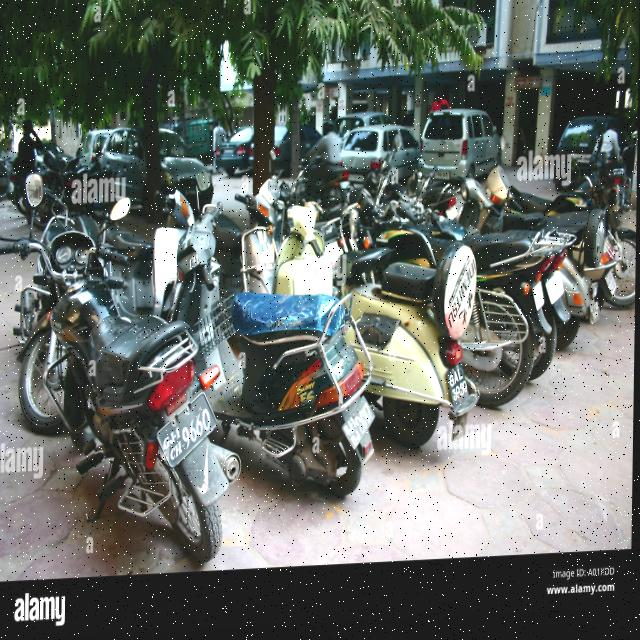plate: (155, 385, 223, 473), (343, 394, 378, 453), (446, 366, 473, 411), (547, 274, 568, 310), (529, 285, 550, 319), (605, 272, 620, 302)
